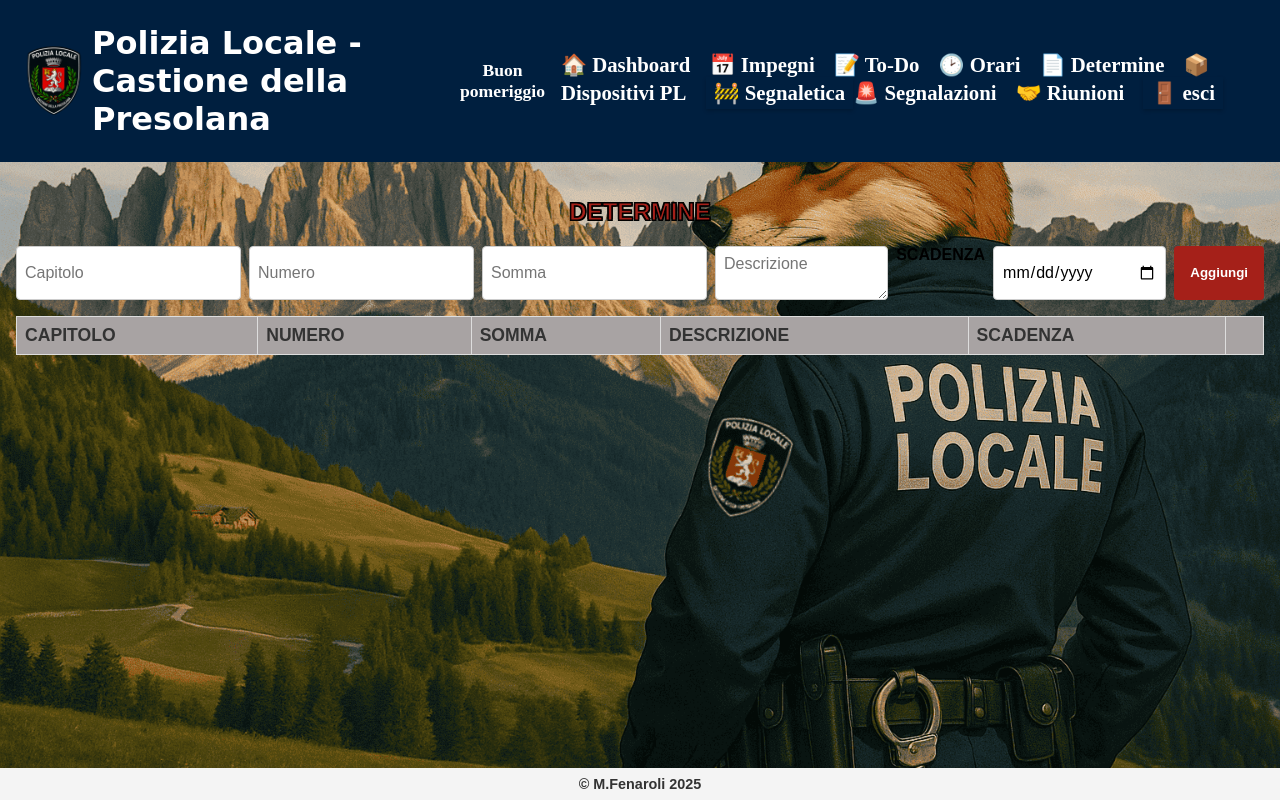
Test case: DeterminationsPage › creates a new determination
The image size is (1280, 800).
Type "C1" into the field with test id "det-capitolo".
click(128, 273); type("C1")  # box [16,246,241,300]
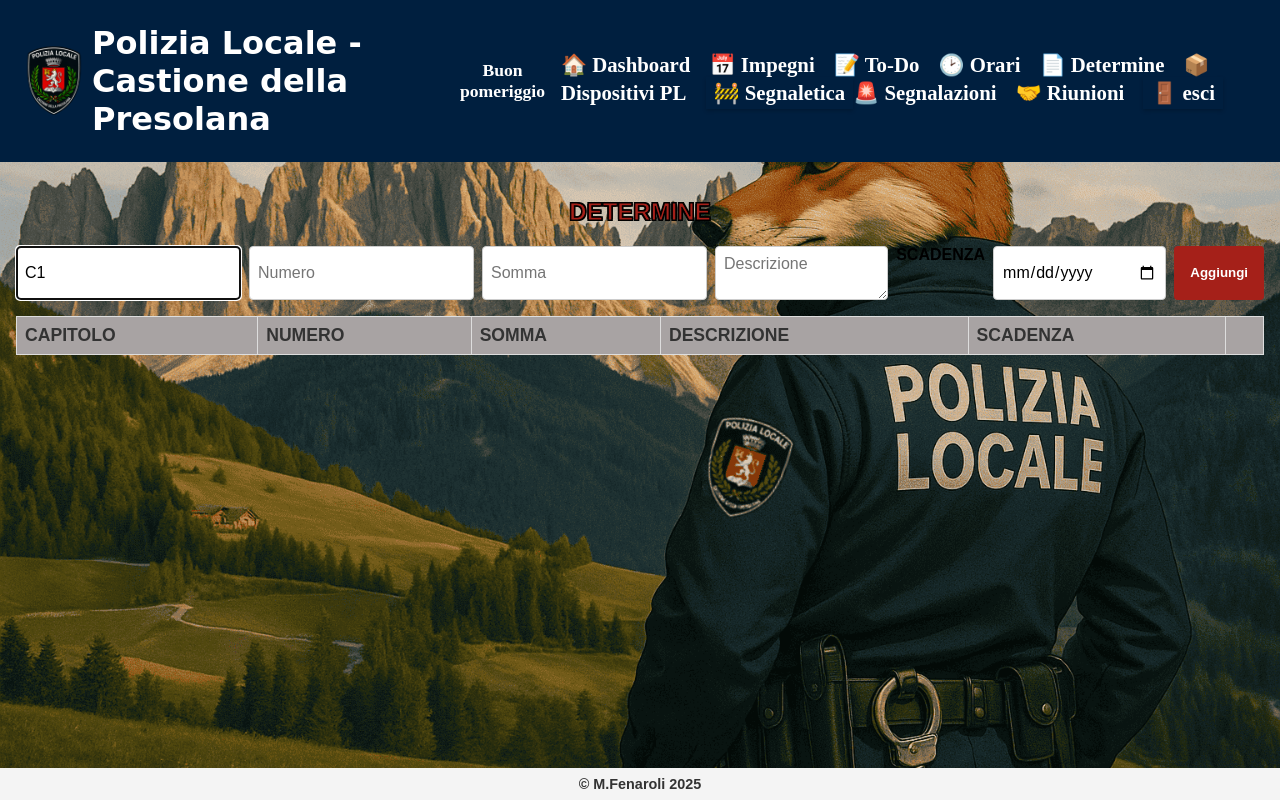
Type "001" into the field with test id "det-numero".
click(362, 273); type("001")  # box [249,246,474,300]
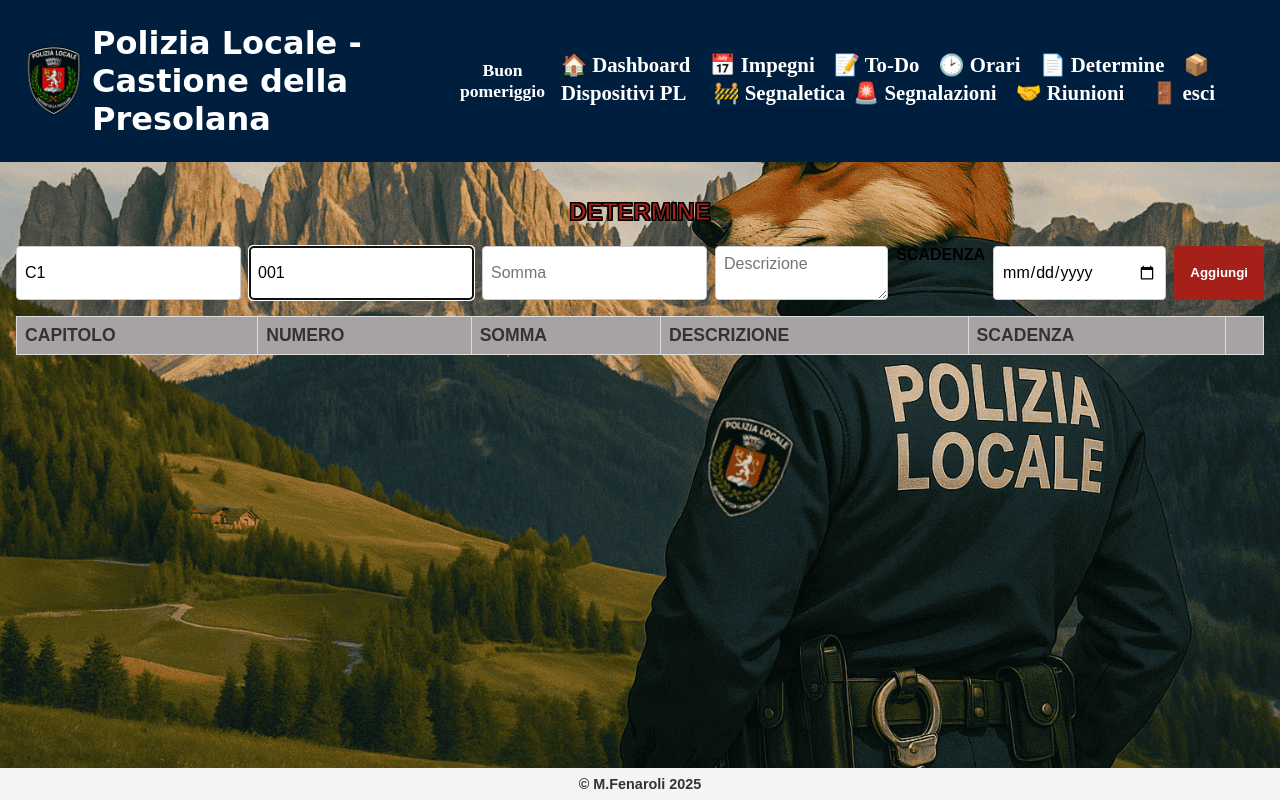
Type "10" into the number field with test id "det-somma".
click(594, 273); type("10")  # box [482,246,707,300]
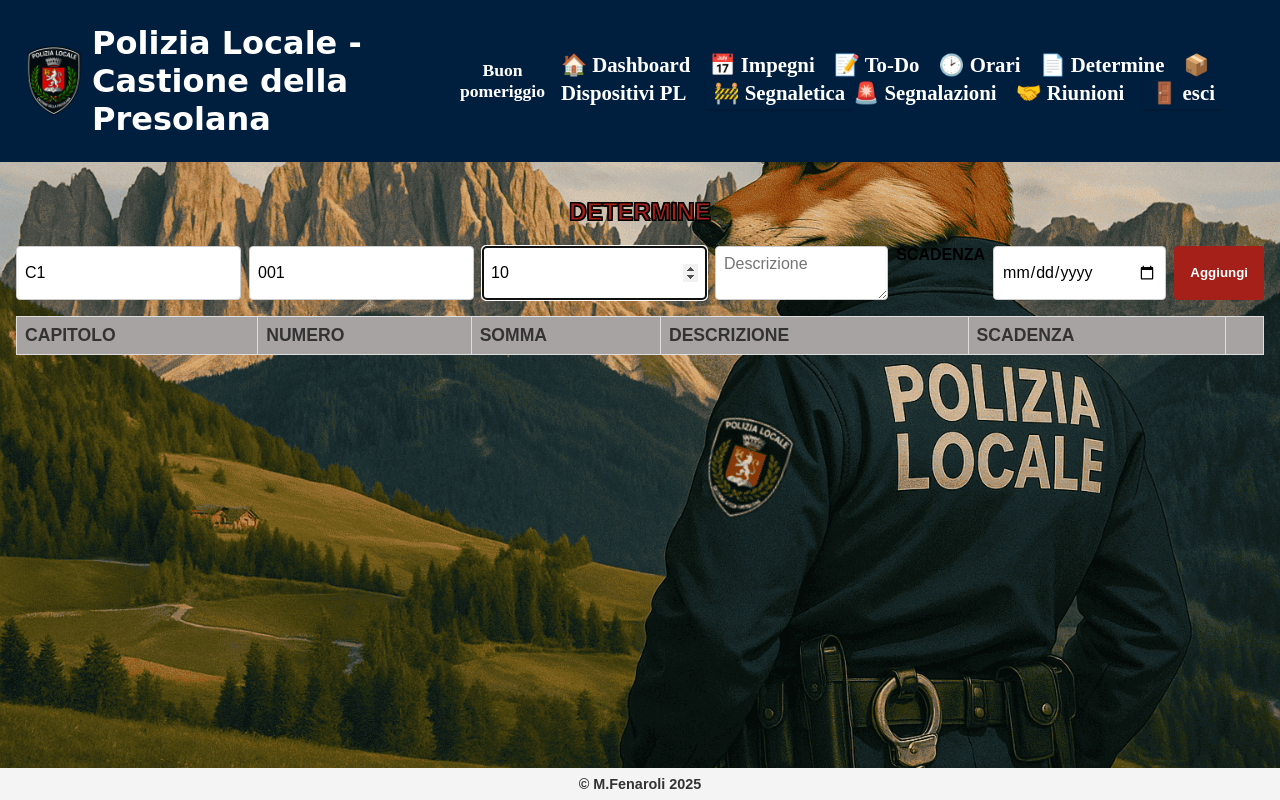
Type "desc" into the text box with test id "det-descrizione".
click(802, 273); type("desc")  # box [715,246,888,300]
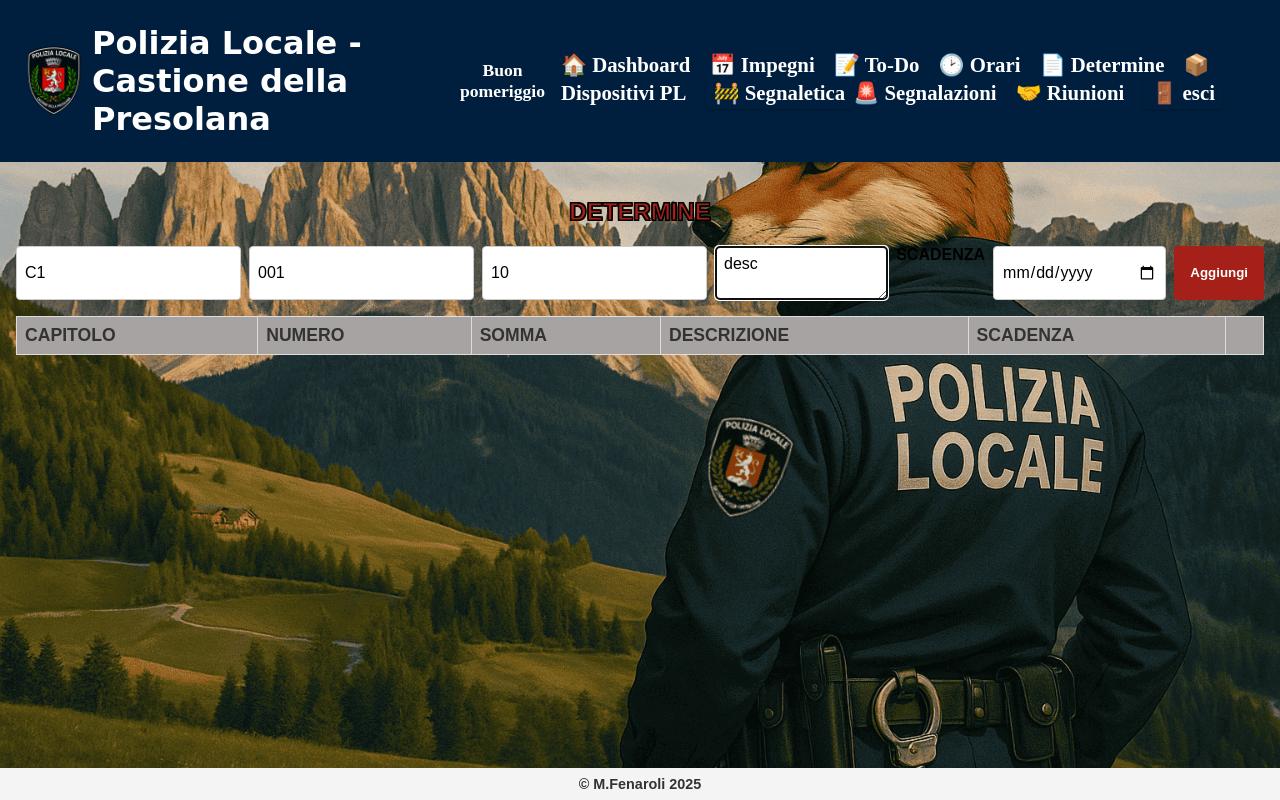
Type "2023-06-10" into the date field with test id "det-scadenza".
click(1080, 273); type("2023-06-10")  # box [993,246,1166,300]
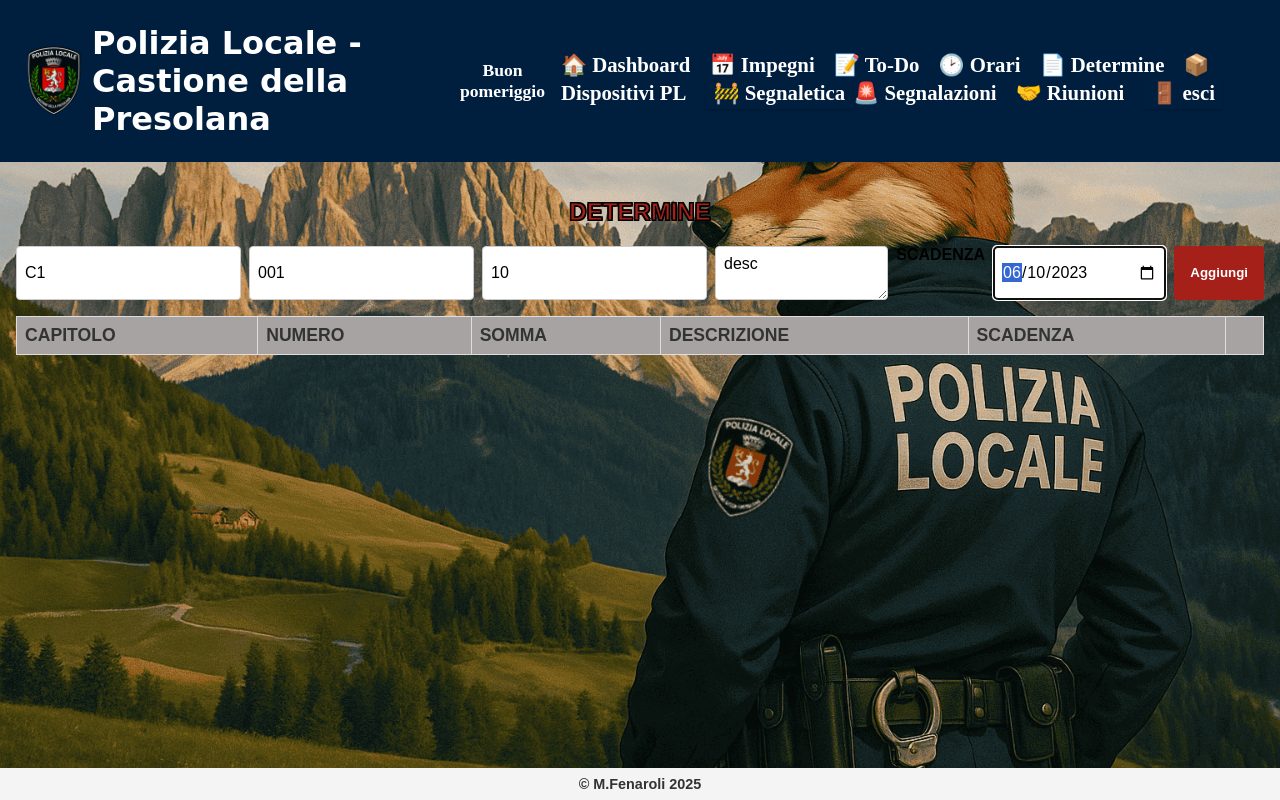
Click the button with test id "det-submit".
click(1219, 273)  # box [1174,246,1264,300]
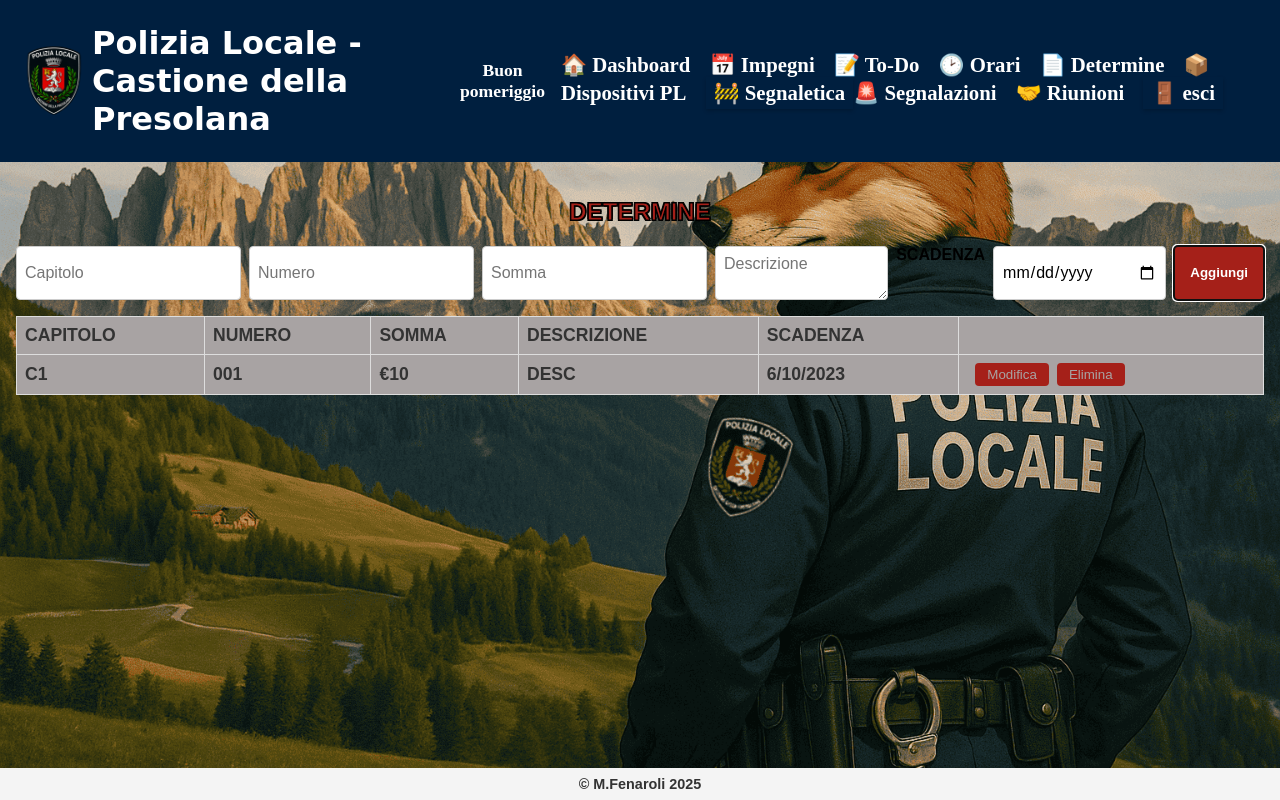
Expected: the text "C1" is shown, [16,354,204,394]
Expected: the text "desc" is shown, [518,354,758,394]
